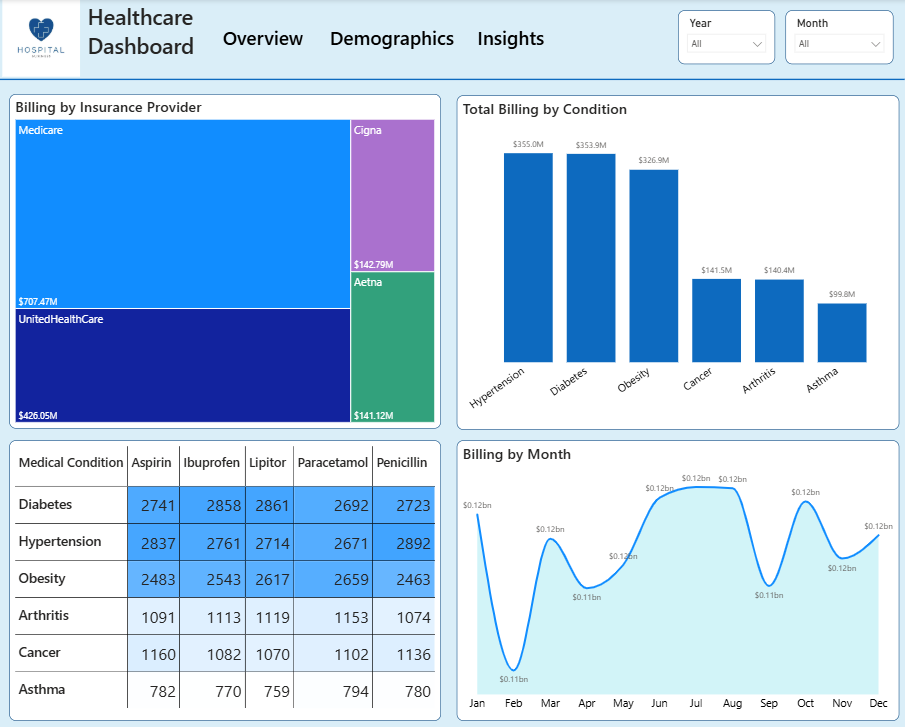

What the dashboard file says about the page in this screenshot:
{"tool":"powerbi","page":{"name":"Insights","canvas":[1350,1091],"ordinal":2},"visuals":[{"type":"slicer","fields":{"Values":["DateTable.Month"]},"box":[1168,16,160,80],"z":0},{"type":"slicer","fields":{"Values":["DateTable.Year"]},"box":[1008,16,144,80],"z":1000},{"type":"treemap","title":"Billing by Insurance Provider","fields":{"Group":["Dim_Patient.Insurance Provider"],"Values":["DAX Measures.Total Billing Amount"]},"box":[17.1,141.4,640,496],"z":2000},{"type":"clusteredColumnChart","title":"Total Billing by Condition","fields":{"Category":["Dim_Patient.Medical Condition"],"Y":["DAX Measures.Total Billing Amount"]},"box":[680,142,656,496],"z":3000},{"type":"shape","box":[0,112,1344,16],"z":7000},{"type":"image","box":[0,0,128,115],"z":8000},{"type":"textbox","box":[128,0,176,112],"z":9000},{"type":"actionButton","box":[320,32,144,48],"z":10000},{"type":"actionButton","box":[480,32,208,48],"z":11000},{"type":"actionButton","box":[704,32,112,48],"z":12000},{"type":"lineChart","title":"Billing by Month","fields":{"Category":["DateTable.Month sh"],"Y":["DAX Measures.Total Billing Amount"]},"box":[680,654,656,416],"z":13000},{"type":"pivotTable","fields":{"Values":["DAX Measures.Patients"],"Rows":["Dim_Patient.Medical Condition"],"Columns":["Dim_Medication.Medication"]},"box":[17.1,653.4,640,416],"z":14000}]}

Visuals, with their boxes in screenshot pixels (x1, y1, x2, y2), scaled from the page's 1350x1091 canvas onto the 905x727 screenshot:
slicer - DateTable.Month: 783/11/890/64
slicer - DateTable.Year: 676/11/772/64
"Billing by Insurance Provider" treemap: 11/94/441/425
"Total Billing by Condition" clusteredColumnChart: 456/95/896/425
shape: 0/75/901/85
image: 0/0/86/77
textbox: 86/0/204/75
actionButton: 215/21/311/53
actionButton: 322/21/461/53
actionButton: 472/21/547/53
"Billing by Month" lineChart: 456/436/896/713
pivotTable - DAX Measures.Patients x Dim_Patient.Medical Condition: 11/435/441/713
